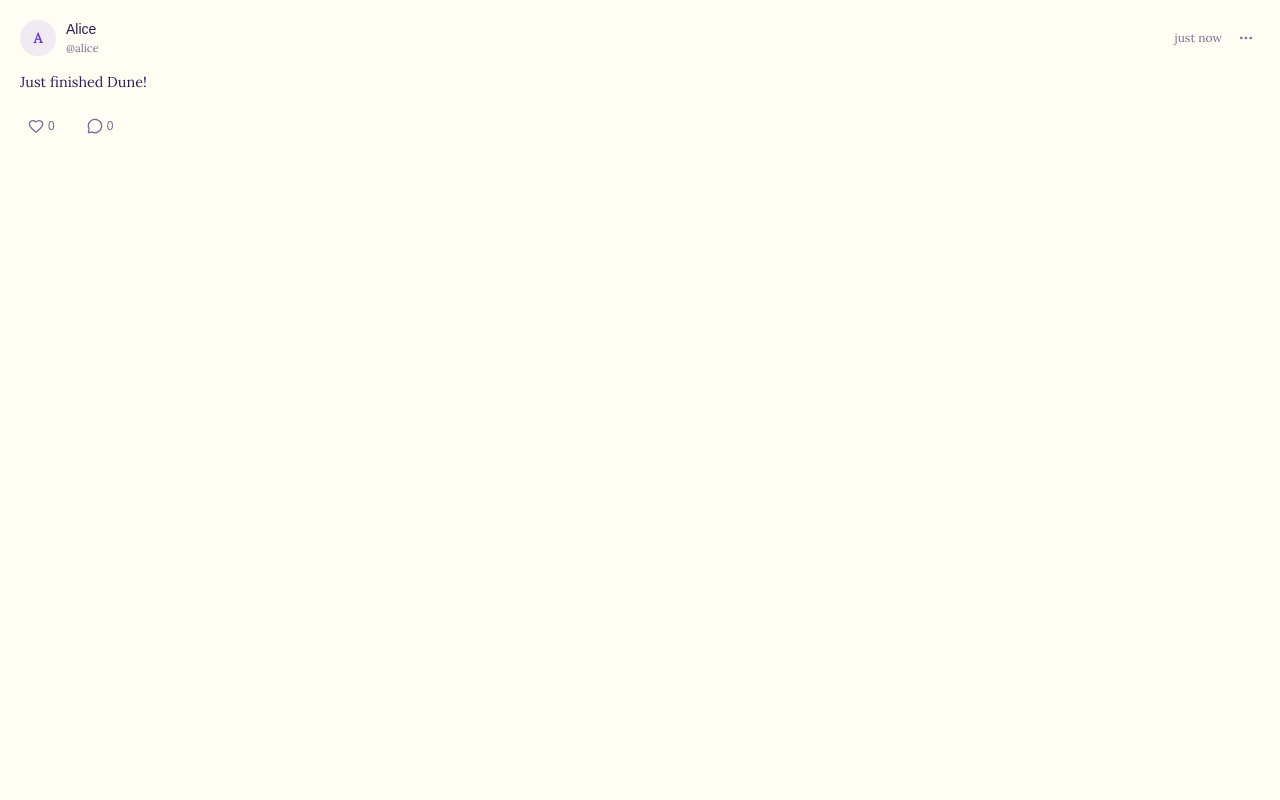
PostCard — delete › closes the dialog when Cancel is clicked
Click the button named "Post options" at [1246, 38], box [1232,24,1260,52]
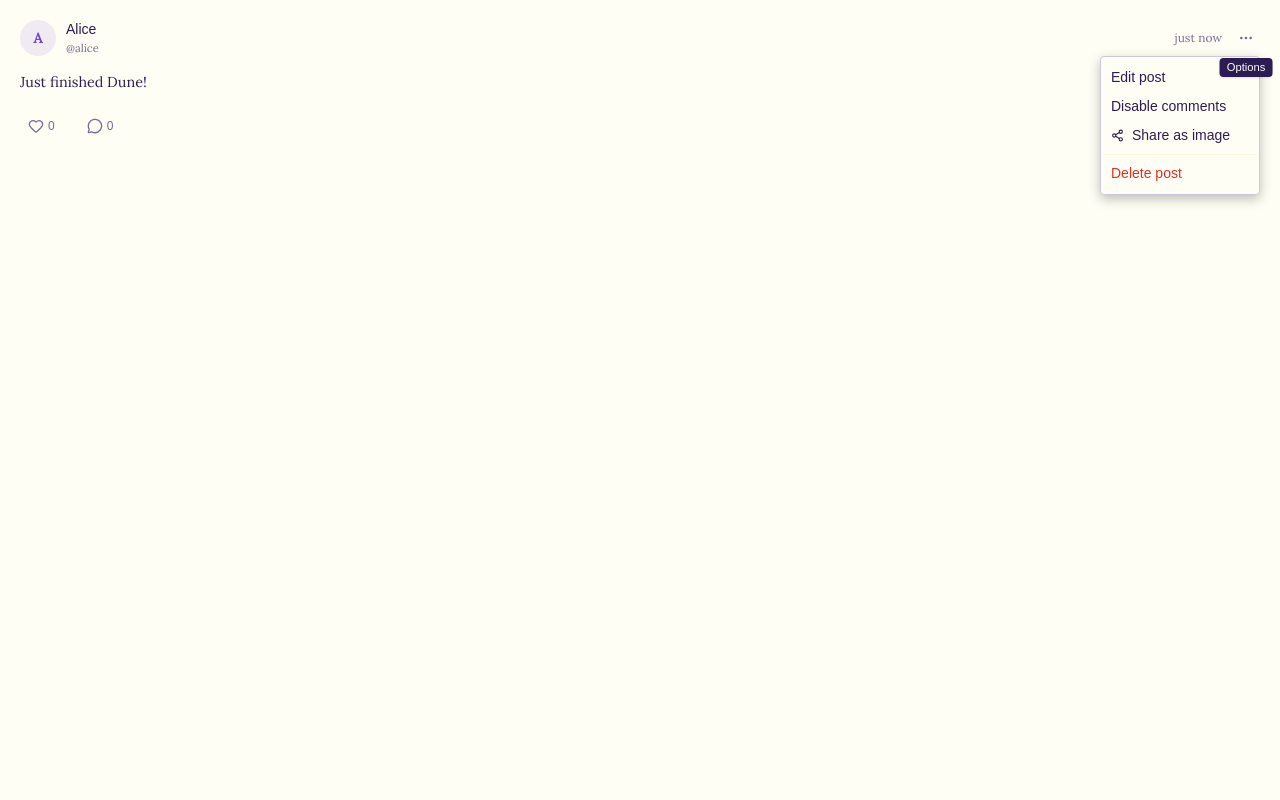
Click the menu item "Delete post" at [1146, 173], box [1111,165,1182,181]
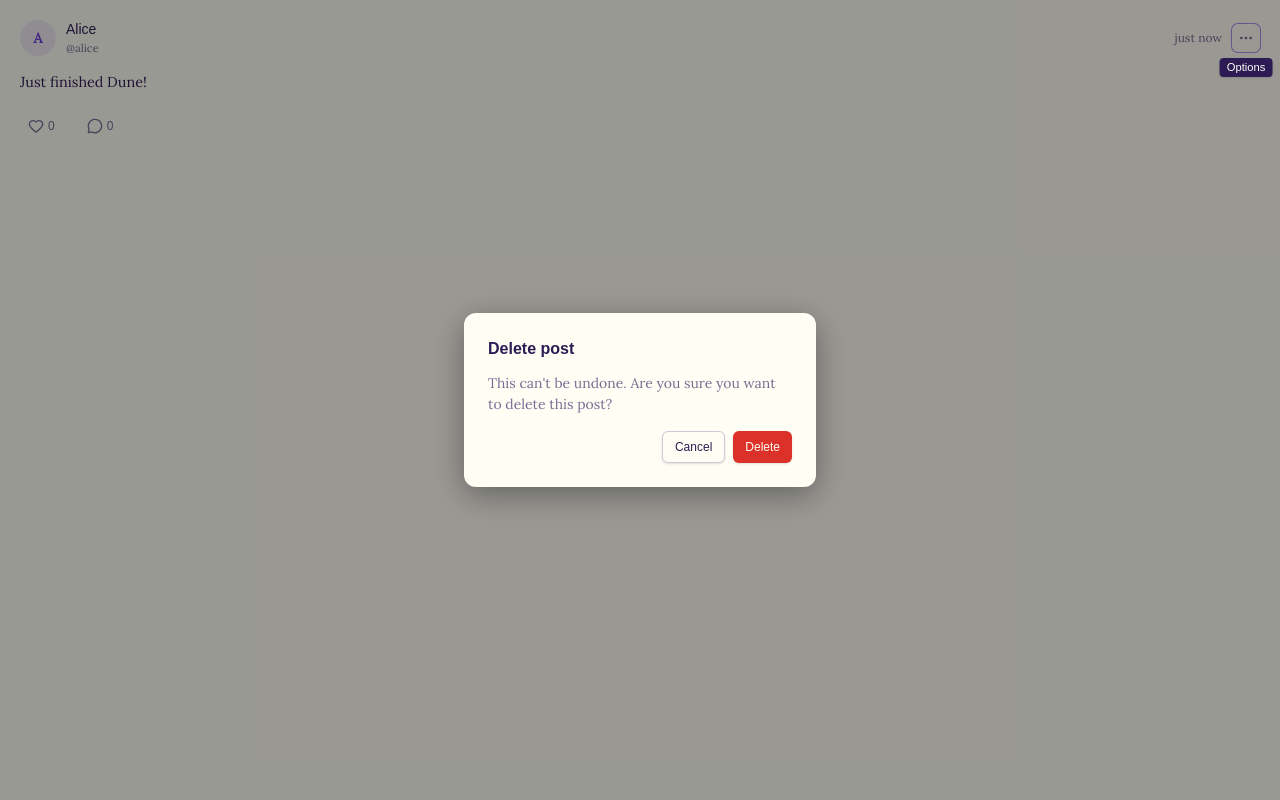
Click the button "Cancel" at [694, 447], box [662,431,725,463]
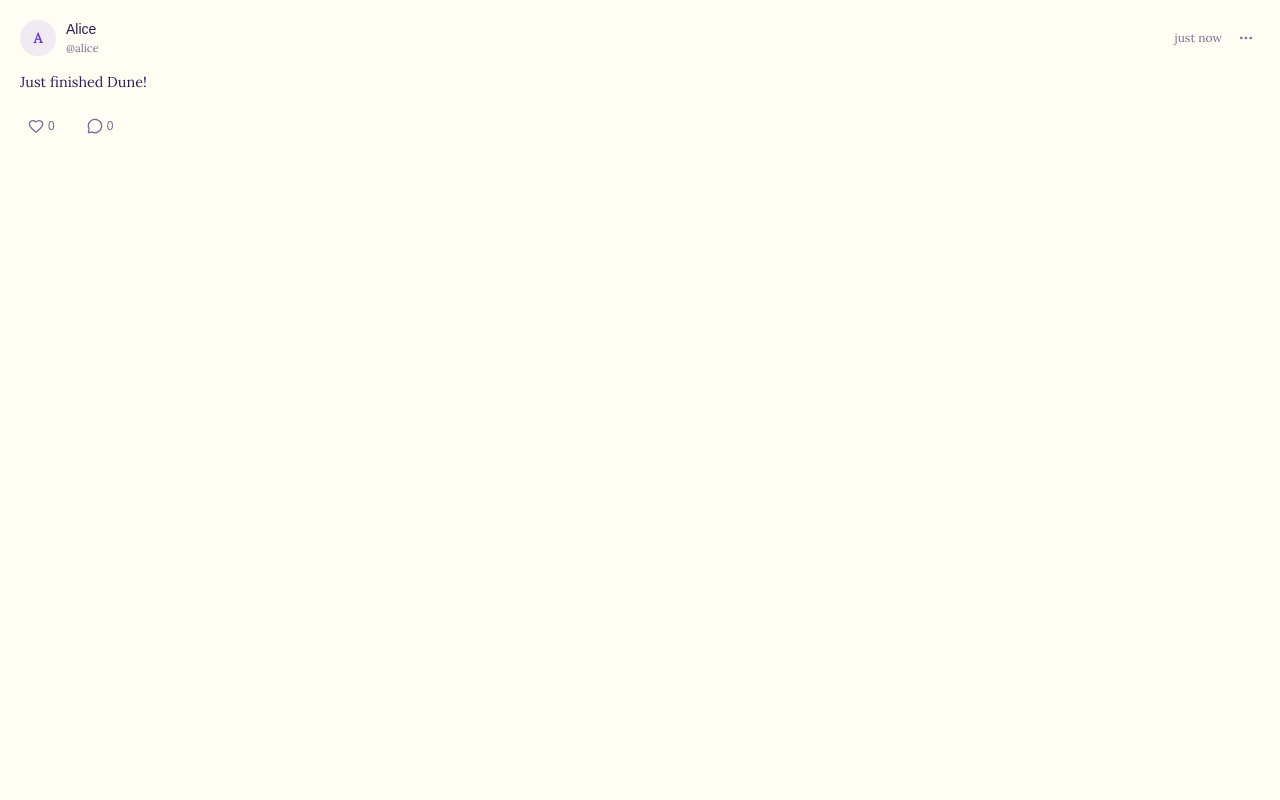
Check: the heading "Delete post" is gone
